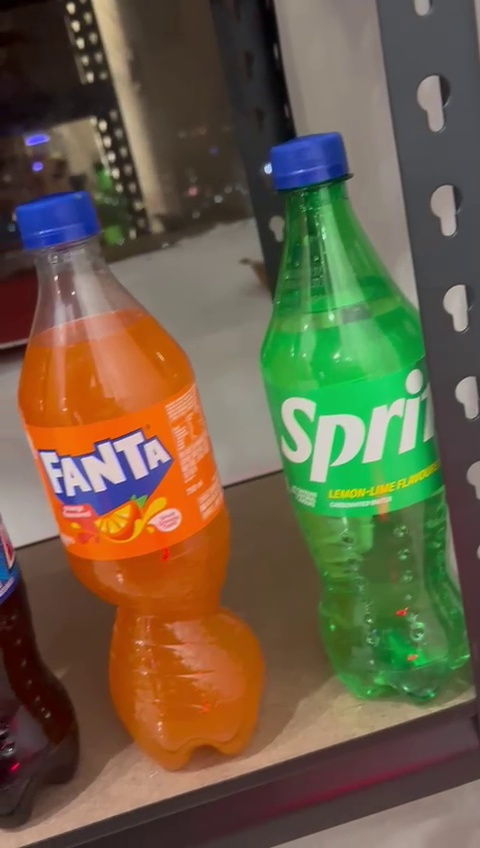Fanta: (10, 189, 271, 755)
Sprit: (244, 119, 480, 710)
